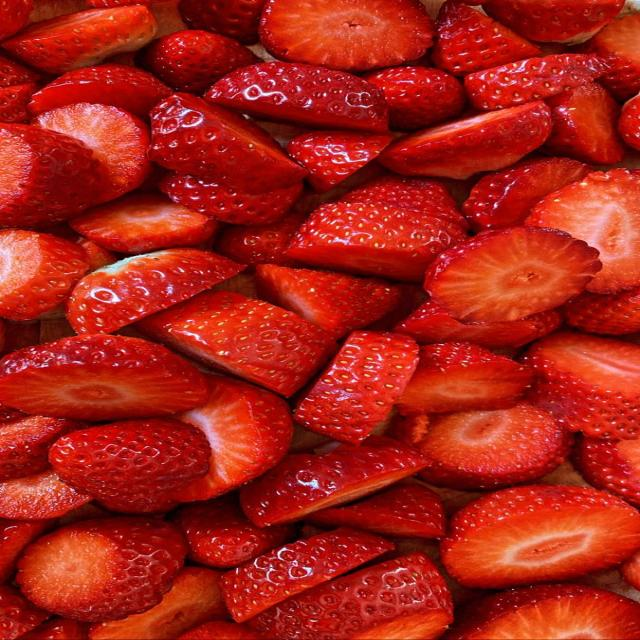strawberry sliced: (138, 291, 335, 396), (441, 485, 639, 588), (424, 221, 602, 322), (0, 334, 208, 420), (250, 552, 453, 639), (18, 517, 186, 621), (241, 437, 428, 526), (221, 528, 393, 622), (149, 94, 306, 192), (49, 419, 211, 512), (67, 248, 242, 333), (174, 376, 292, 501), (287, 202, 466, 282), (527, 169, 639, 293), (294, 332, 418, 443), (417, 403, 572, 490), (380, 101, 551, 179), (206, 62, 388, 132), (524, 332, 639, 439), (260, 0, 435, 70), (33, 103, 151, 201), (2, 5, 157, 75), (256, 264, 401, 338), (0, 124, 104, 227), (446, 584, 639, 639), (90, 567, 228, 639), (462, 157, 591, 231), (399, 343, 532, 413), (172, 494, 293, 569), (71, 194, 217, 253), (394, 300, 561, 349), (432, 0, 541, 75), (0, 230, 88, 320), (465, 54, 606, 109), (306, 483, 445, 538), (160, 173, 303, 226), (30, 64, 170, 117), (144, 30, 260, 93), (340, 174, 468, 229), (545, 83, 626, 164), (287, 131, 392, 192), (366, 67, 465, 131), (482, 0, 624, 43), (0, 416, 84, 481), (216, 213, 306, 267), (572, 437, 639, 506), (586, 14, 639, 100), (0, 470, 91, 519), (180, 0, 264, 44), (563, 287, 639, 335), (0, 519, 50, 582), (0, 585, 49, 639), (178, 621, 263, 639), (20, 617, 88, 639), (0, 83, 37, 123), (76, 236, 117, 271), (149, 0, 187, 37), (0, 0, 34, 40), (30, 0, 88, 22), (0, 55, 39, 86), (618, 96, 639, 150), (620, 551, 639, 590), (87, 0, 166, 7)
